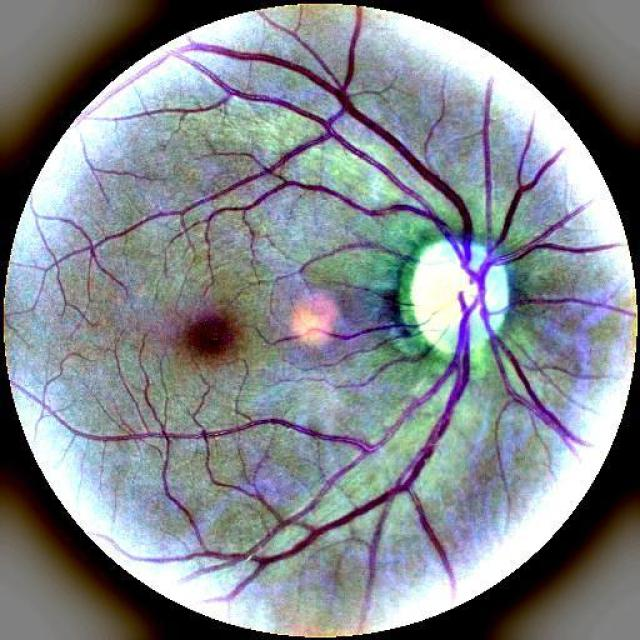Macula: (188, 314, 234, 354)
Nerves: (151, 14, 576, 586)
Optic Disk: (400, 240, 509, 360)
